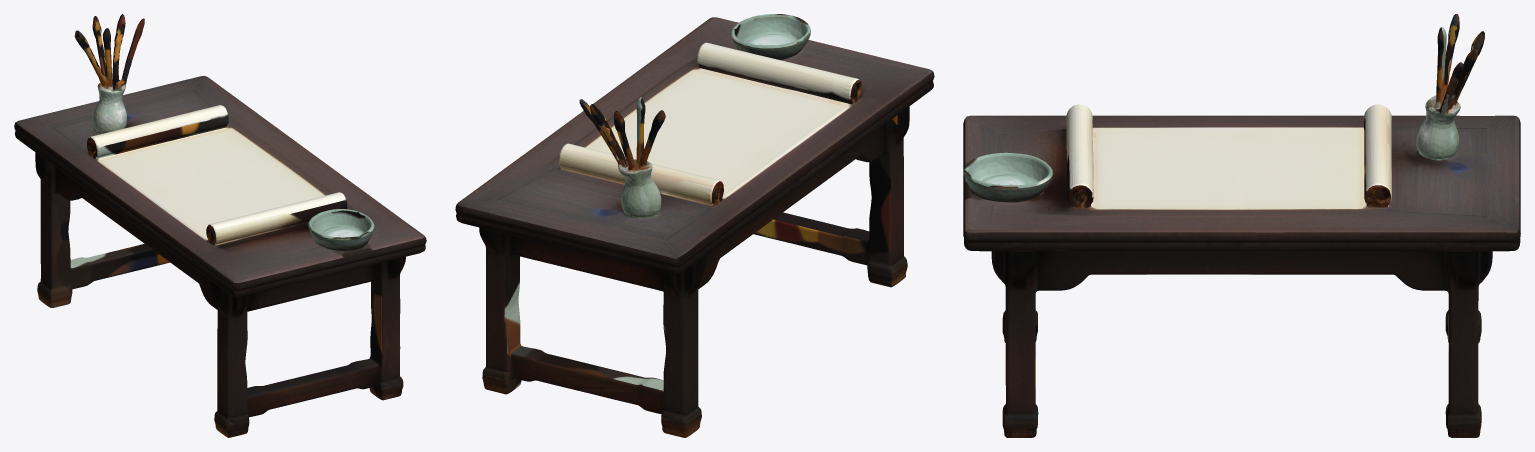
File: traveler_env_coast_kamen_scriptorium_desk_00001_.glb
3 views of the same model, side by side, from view 1: azimuth 30°, elevation 25°; view 2: azimuth 150°, elevation 25°; view 3: azimuth 270°, elevation 25° (orthographic). The views are drawn at different scales.
Parts seen in each view (by area): view 1: temp_mesh.ply; view 2: temp_mesh.ply; view 3: temp_mesh.ply.
Part boxes in pixels (box(x1,y1,x2,y2)): temp_mesh.ply: box(14, 14, 426, 437); temp_mesh.ply: box(455, 14, 934, 437); temp_mesh.ply: box(963, 14, 1520, 437).
Size of the model in its own units: 0.9926 by 1.32 by 1.97.
1 material, 1 textured.
